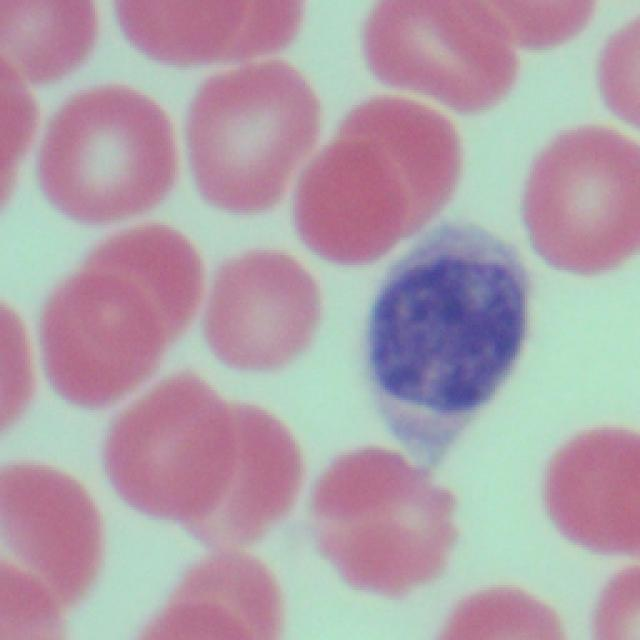RBC: (33, 201, 196, 413), (29, 75, 175, 231), (174, 60, 314, 221), (311, 436, 454, 592), (352, 0, 518, 115), (109, 373, 237, 522), (516, 123, 638, 277), (195, 231, 322, 377), (340, 91, 463, 231), (0, 447, 92, 632), (177, 407, 302, 534), (535, 415, 637, 558), (145, 538, 280, 639), (0, 0, 97, 82), (0, 41, 37, 228), (0, 281, 35, 440), (595, 10, 640, 130), (587, 557, 640, 640)
WBC: (385, 261, 529, 412)
